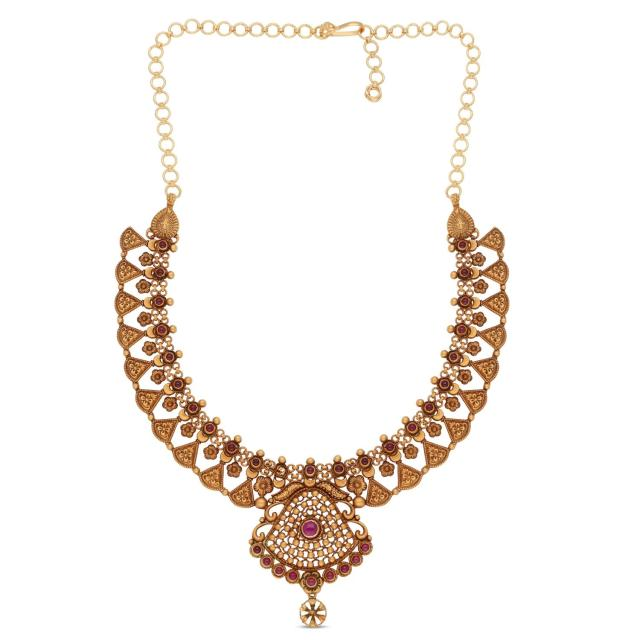missing gem: (277, 467, 285, 474)
